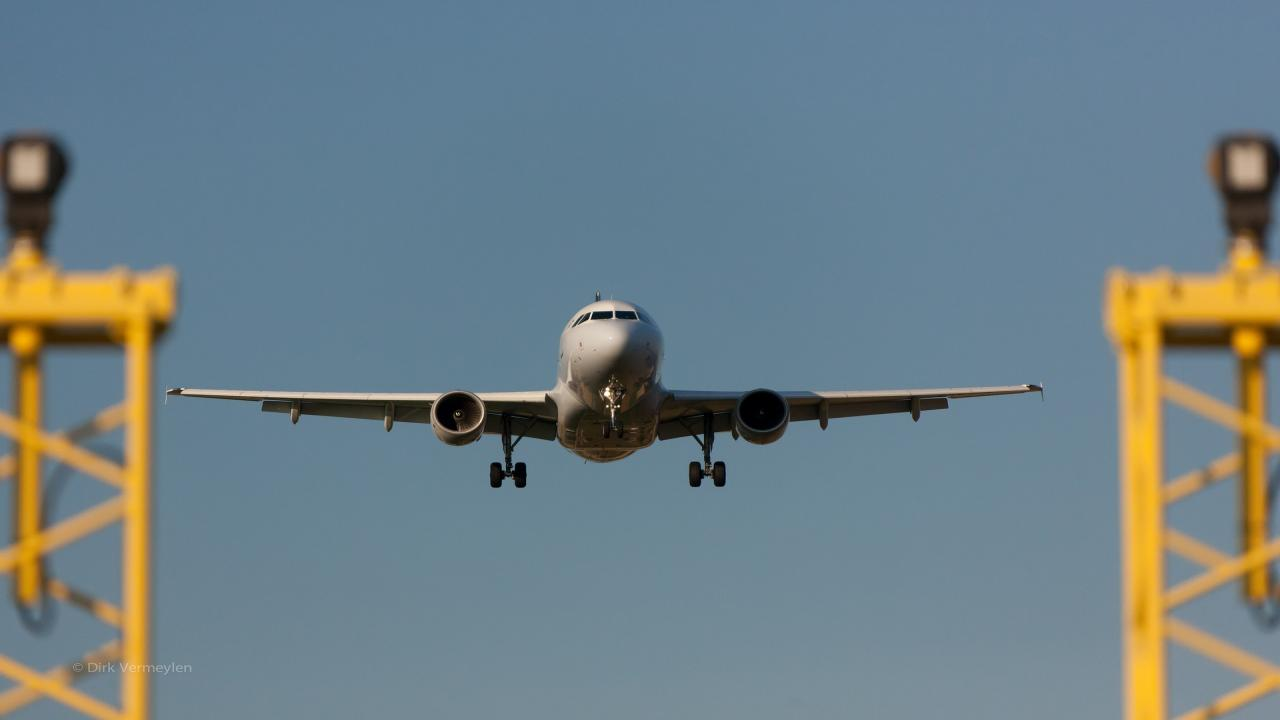Airplane: (143, 280, 1062, 504)
